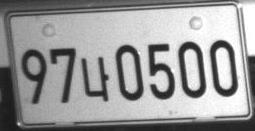0: (177, 40, 207, 98), (209, 38, 238, 98), (114, 44, 144, 101)
5: (147, 43, 175, 100)
7: (49, 47, 77, 104)
9: (20, 48, 47, 104)
나: (80, 56, 110, 102)
